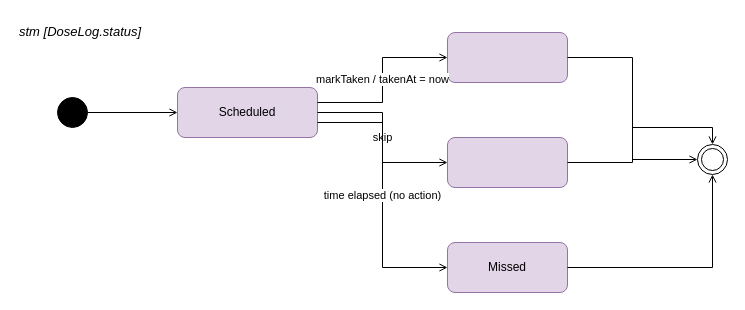
This 745x310 diagram has some shape labels left out. The centre of each missing label's shape, as x and y in pixels:
Skipped: pixel 507 162
Taken: pixel 507 57
